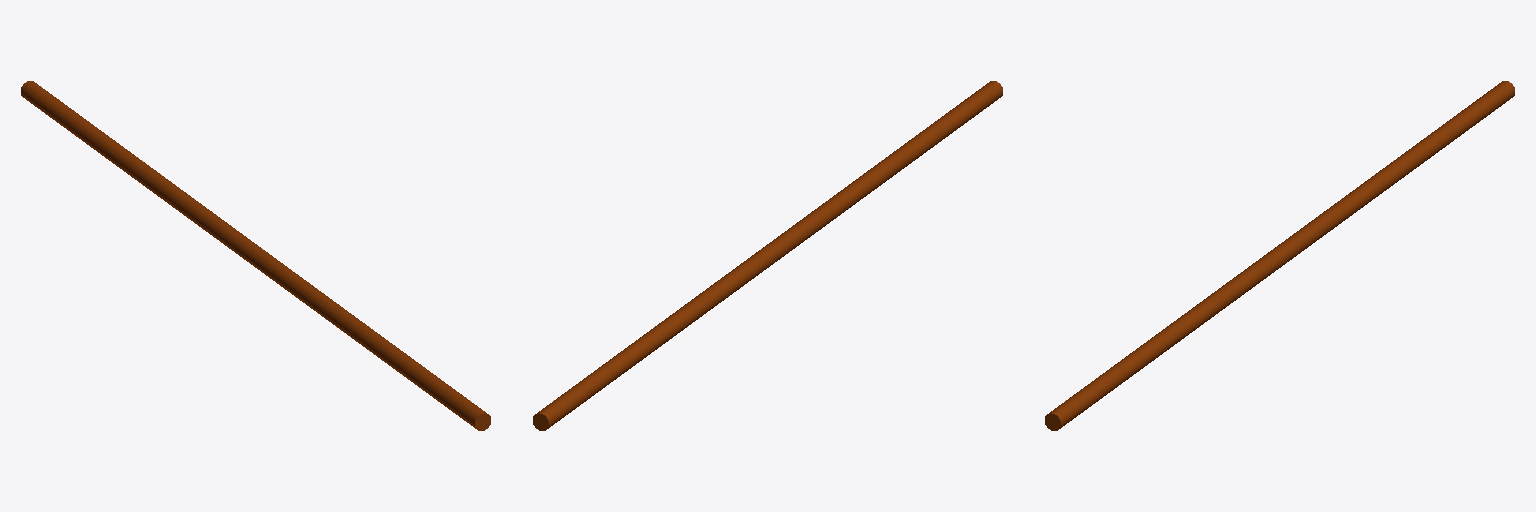
robot.urdf — cylinder:
<?xml version="1.0" ?>
<!-- =================================================================================== -->
<!-- |    This document was autogenerated by xacro from cylinder.xacro                 | -->
<!-- |    EDITING THIS FILE BY HAND IS NOT RECOMMENDED                                 | -->
<!-- =================================================================================== -->
<robot name="cylinder">
  <link name="world"/>
  <link name="base">
    <visual>
      <origin rpy="1.57079633 0 0" xyz="0 0 0"/>
      <geometry>
        <cylinder length="7.07106781185" radius="0.075"/>
      </geometry>
      <material name="cylinder_material">
        <color rgba="0.545 0.271 0.075 1.0"/>
        <texture filename="../textures/tree_bark.jpg"/>
      </material>
    </visual>
    <collision>
      <origin rpy="1.57079633 0 0" xyz="0 0 0"/>
      <geometry>
        <cylinder length="7.07106781185" radius="0.075"/>
      </geometry>
    </collision>
    <inertial>
      <origin rpy="0 0 0" xyz="0 0 0"/>
      <mass value="1"/>
      <inertia ixx="4.168072916648429" ixy="0.0" ixz="0.0" iyy="4.168072916648429" iyz="0.0" izz="24.999999999890573"/>
    </inertial>
  </link>
  <joint name="base_joint" type="fixed">
    <parent link="world"/>
    <child link="base"/>
    <origin rpy="0 0 0" xyz="0.0 0.0 0.0"/>
  </joint>
</robot>

--- Facts derived from the render (not from the file) ---
The picture shows the robot from 3 angles, left to right: view 1: azimuth 30°, elevation 25°; view 2: azimuth 150°, elevation 25°; view 3: azimuth 330°, elevation 25°; orthographic projection.
Robot: cylinder — 2 links, 1 joints (1 fixed); root link world; default pose: every joint at zero.
Links seen in each view (by area): view 1: base; view 2: base; view 3: base.
Boxes of the visible links, bbox=[...] form: base: bbox=[21, 81, 490, 430]; base: bbox=[533, 81, 1002, 430]; base: bbox=[1045, 81, 1514, 430].
Size in the robot's own frame: 0.15 by 7.07 by 0.15 metres.
Geometry: primitives only (box / cylinder / sphere), no mesh files.
